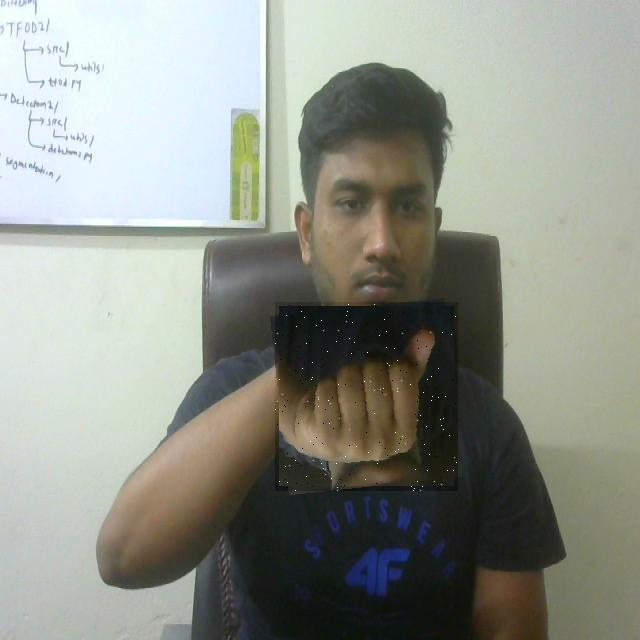Yes: (275, 302, 458, 491)
